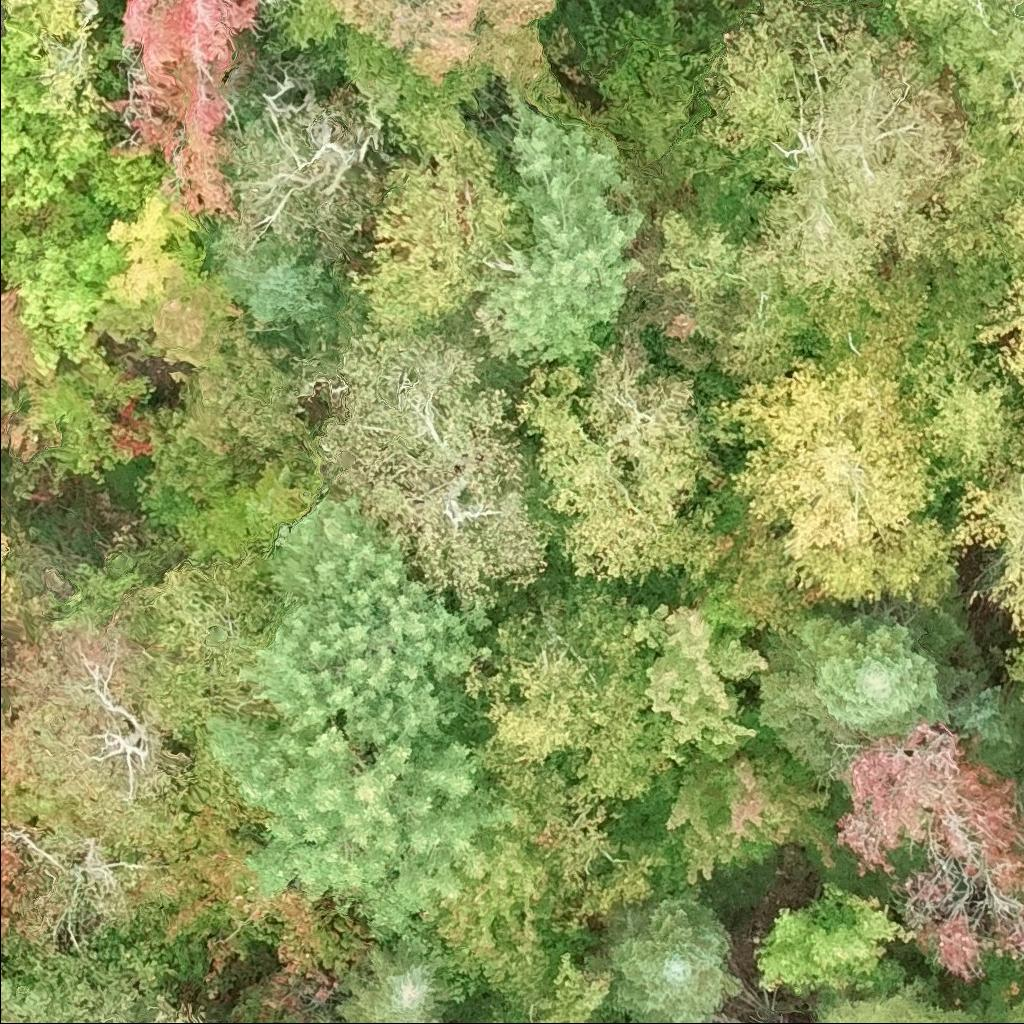crown: (207, 494, 520, 943), (663, 0, 985, 372), (0, 0, 185, 385), (301, 332, 553, 598), (701, 357, 945, 600), (519, 339, 735, 588), (838, 721, 1023, 980), (461, 583, 670, 798), (483, 87, 637, 364), (444, 797, 665, 967), (355, 113, 510, 338), (114, 0, 255, 218), (759, 617, 956, 769), (235, 101, 384, 251), (625, 603, 768, 758), (669, 751, 832, 884), (898, 312, 1023, 485), (337, 0, 556, 81), (754, 884, 914, 994), (605, 900, 744, 1023), (951, 448, 1023, 631), (0, 962, 206, 1023), (975, 187, 1023, 416), (921, 0, 1023, 106), (331, 936, 452, 1023), (817, 978, 975, 1023), (526, 954, 613, 1023), (940, 685, 1015, 747), (1000, 643, 1023, 691), (968, 1005, 1023, 1023), (1021, 781, 1023, 802)
